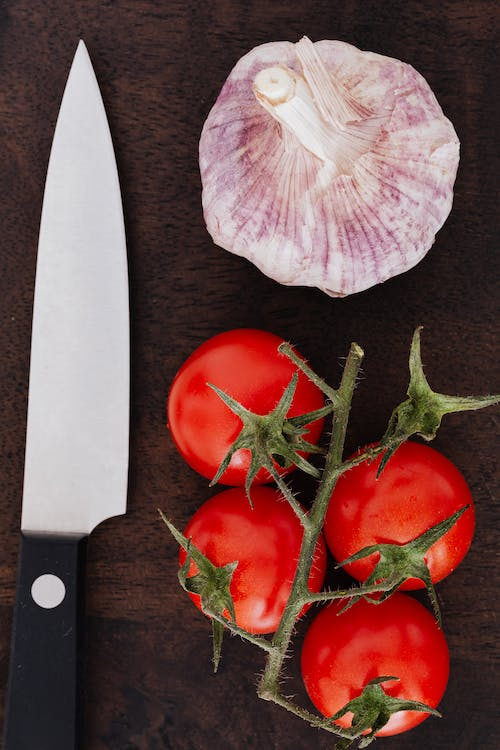knife: (0, 33, 132, 750)
